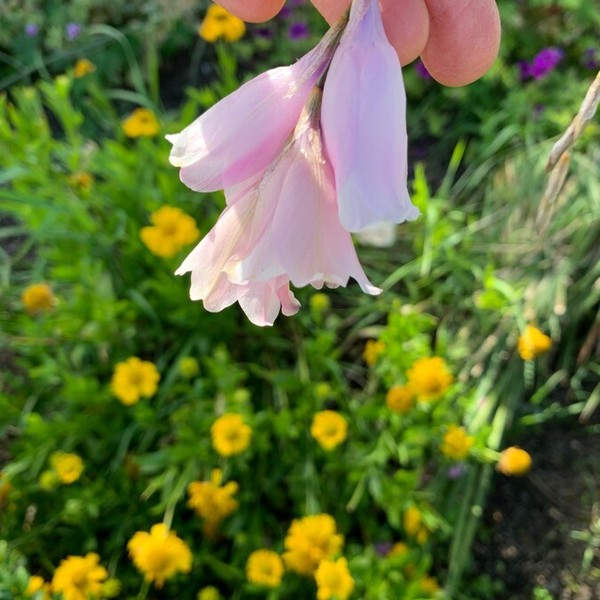obstacle: (155, 37, 461, 332)
